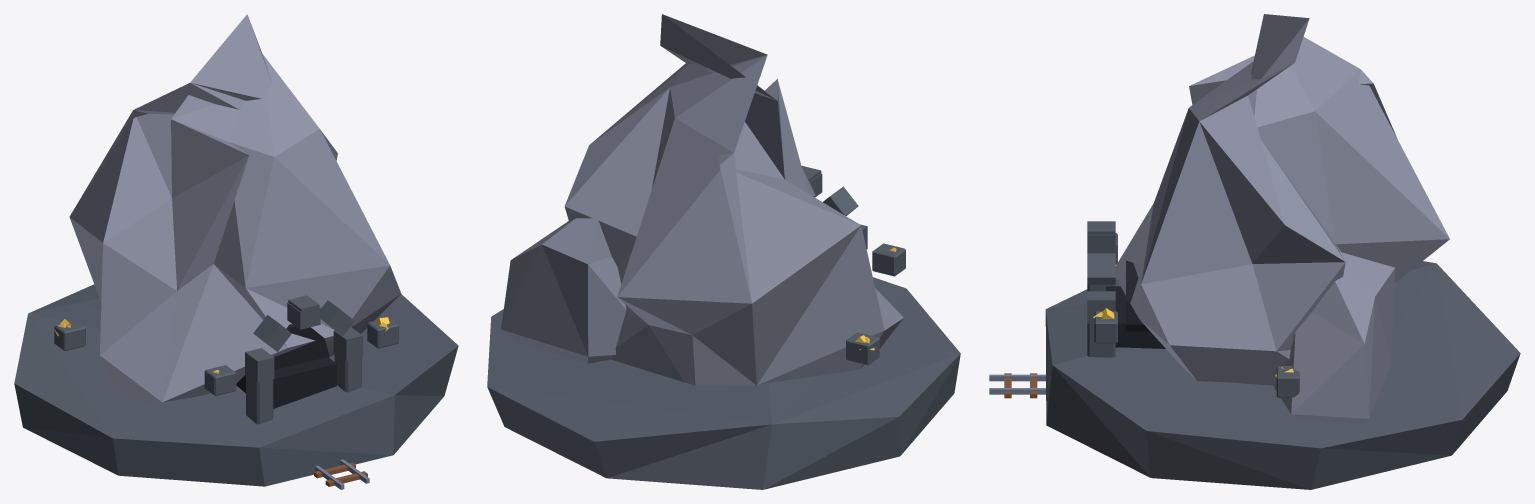
Rendered from SM_Mountain_Gold.fbx.
The picture shows the model from 3 angles, left to right: view 1: azimuth 30°, elevation 25°; view 2: azimuth 150°, elevation 25°; view 3: azimuth 270°, elevation 25°; orthographic projection. The views are drawn at different scales.
Visible parts, largest first — view 1: SM_Mountain_Gold; view 2: SM_Mountain_Gold; view 3: SM_Mountain_Gold.
Boxes of the visible parts, x1,y1,x2,y2 form: SM_Mountain_Gold: [14, 14, 458, 489]; SM_Mountain_Gold: [487, 14, 960, 489]; SM_Mountain_Gold: [989, 14, 1520, 489].
Size of the model in its own units: 10.34 by 9.29 by 11.37.
